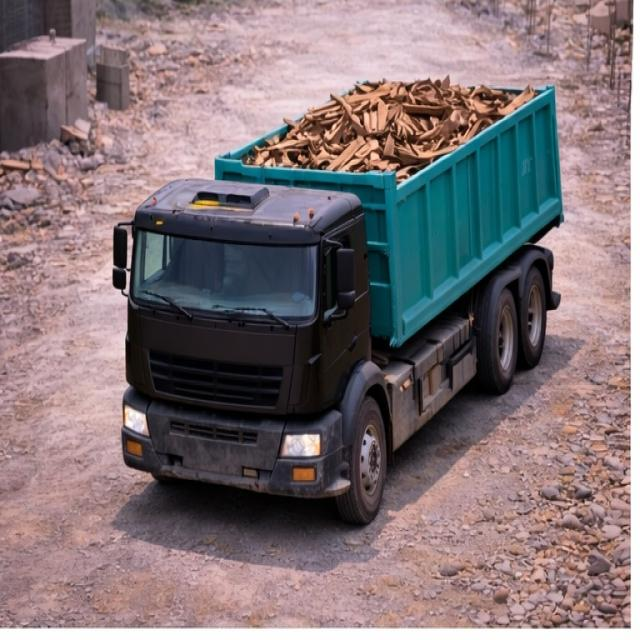trailer: (214, 83, 555, 176)
truck: (110, 63, 566, 503)
